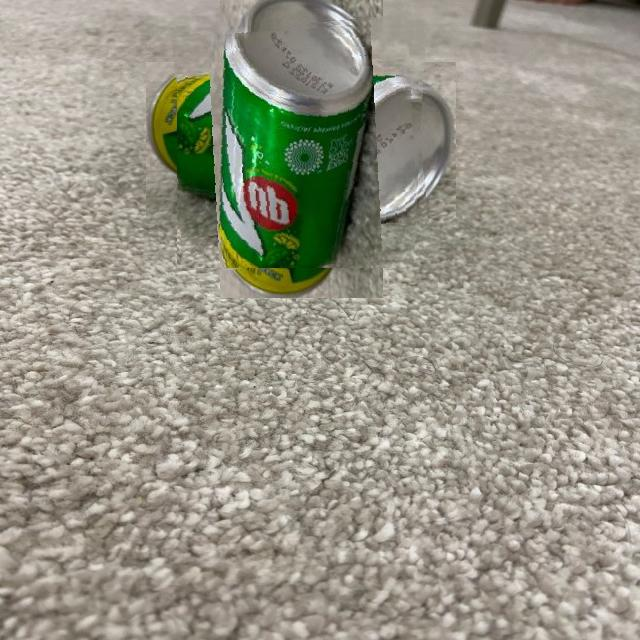recyclable: (177, 19, 426, 268)
